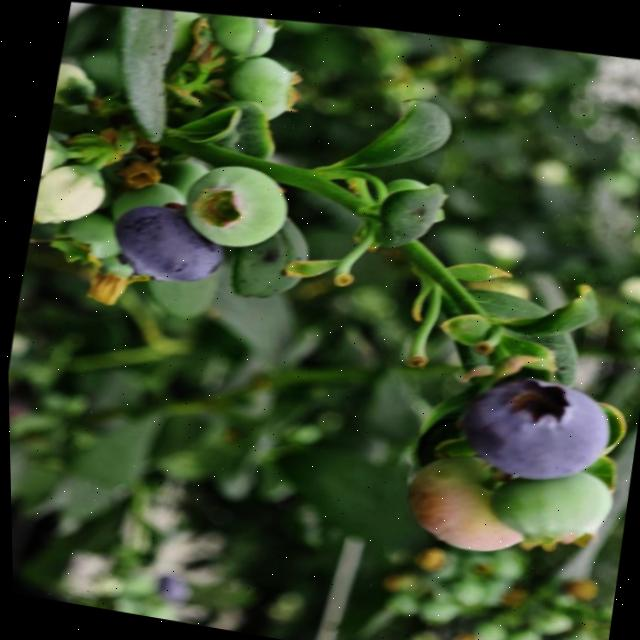RipeBlueBerry: (447, 358, 618, 495), (101, 187, 233, 290)
Semi-RipeBlueBerry: (392, 441, 529, 562)
UnripeBlueBerry: (480, 456, 617, 557), (171, 146, 295, 255)
